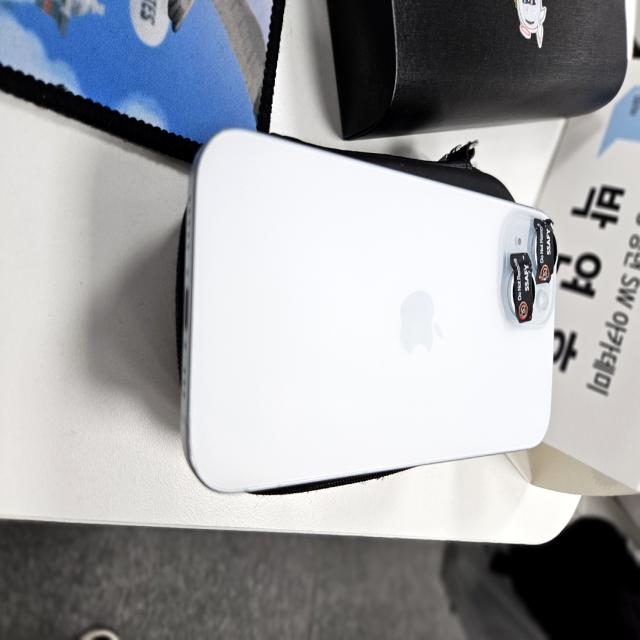phone: (183, 126, 558, 493)
sticker: (507, 250, 537, 325), (533, 215, 557, 284)
